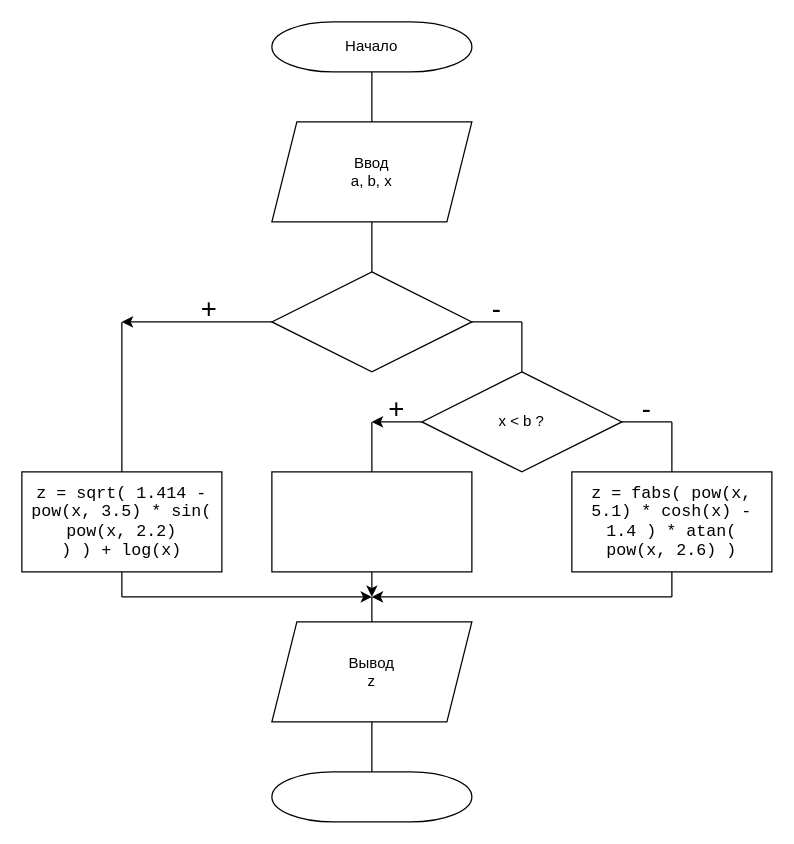
Some shapes in this 794 by 844 pixel diagram are drawn without their labels. Each missing label, with the centre of its shape:
x <= a ?: [371,321]
z = 2 * exp(3.14 * x) * sin( 2.1 * x - PI / 5 ): [371,521]
Конец: [371,796]
